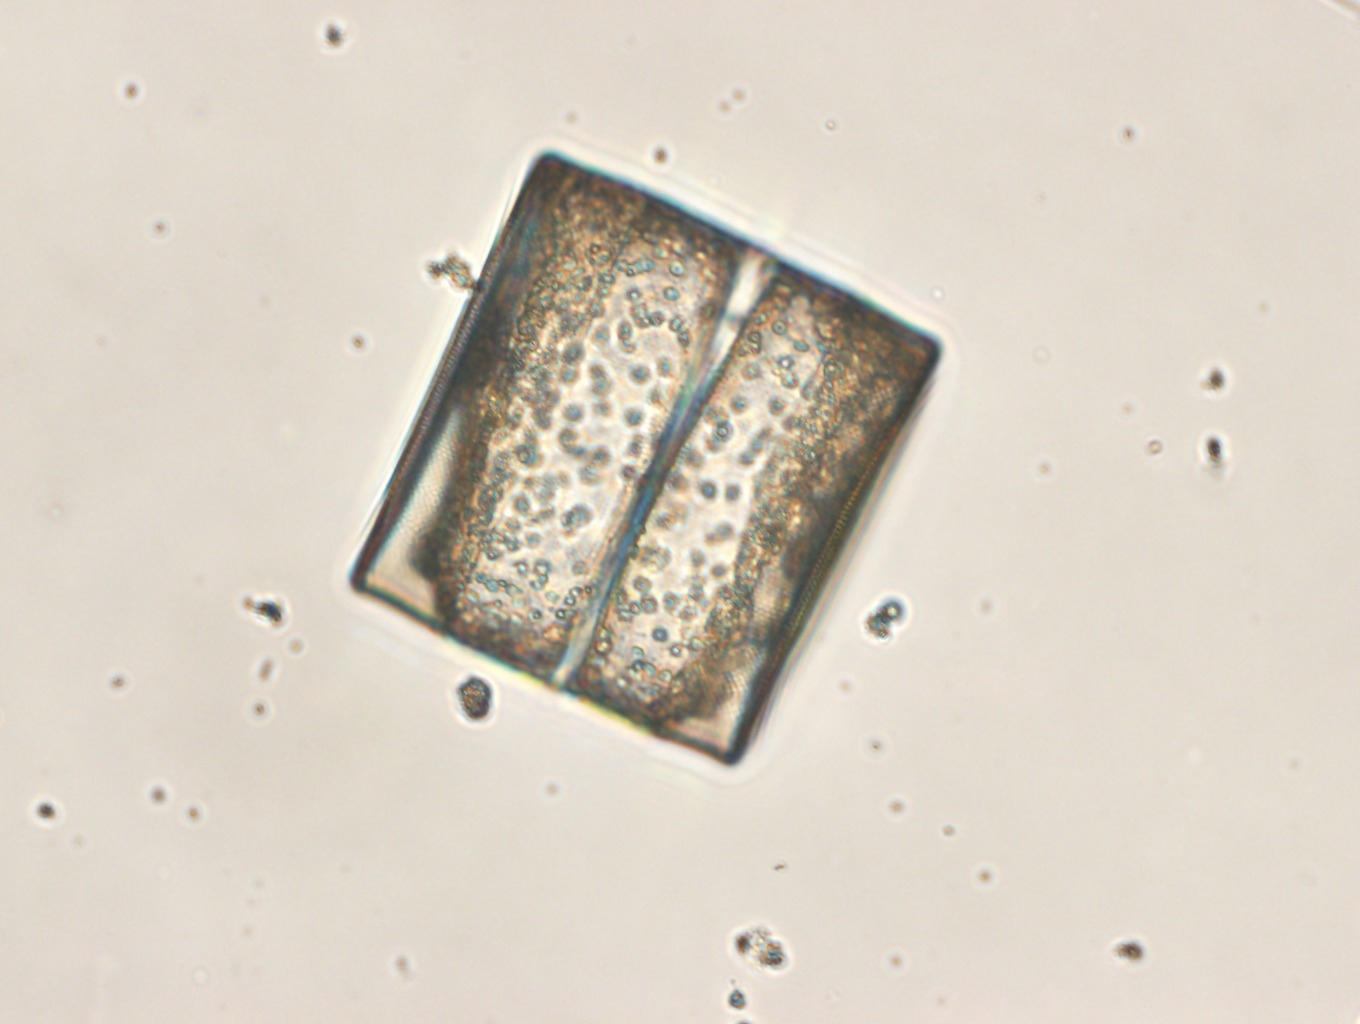coscinodiscus flank: (349, 151, 943, 769)
